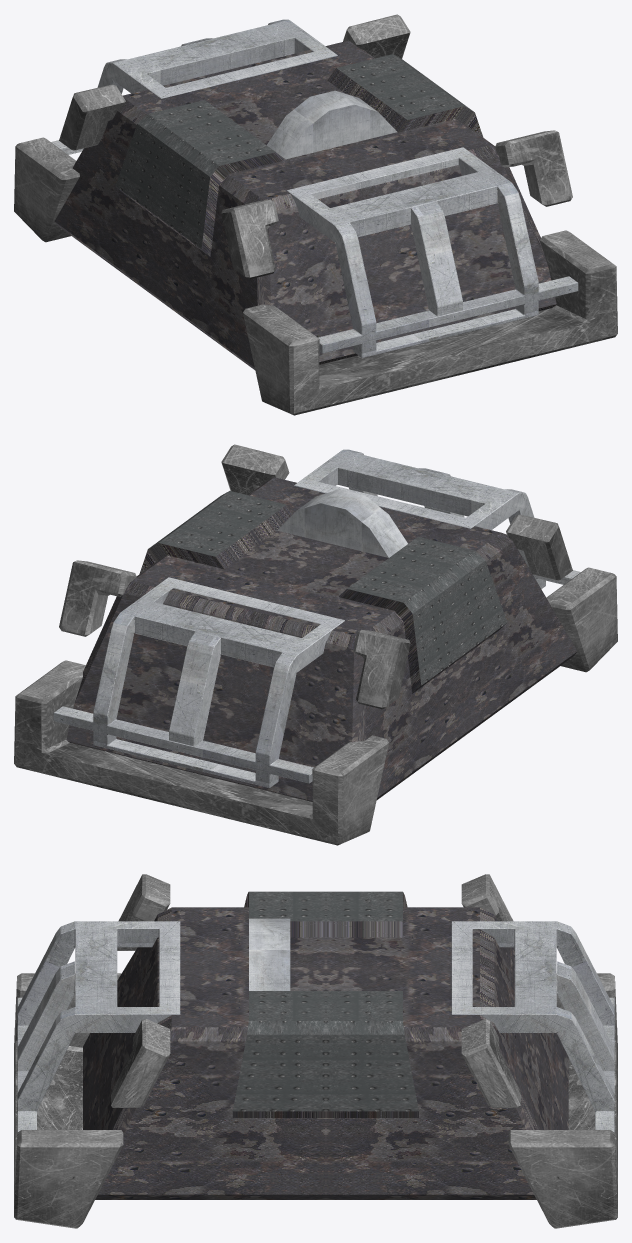
File: WILDCAT_body.FBX
The picture shows the model from 3 angles, top to bottom: view 1: azimuth 30°, elevation 25°; view 2: azimuth 150°, elevation 25°; view 3: azimuth 270°, elevation 25°; orthographic projection. The views are drawn at different scales.
Parts seen in each view (by area): view 1: WildCat_body; view 2: WildCat_body; view 3: WildCat_body.
Boxes of the visible parts, box(x1,y1,x2,y2) form: WildCat_body: box(14, 14, 617, 415); WildCat_body: box(14, 444, 617, 845); WildCat_body: box(14, 874, 617, 1228).
Size of the model in its own units: 41.42 by 24.09 by 61.11.
4 materials, 4 textured.
